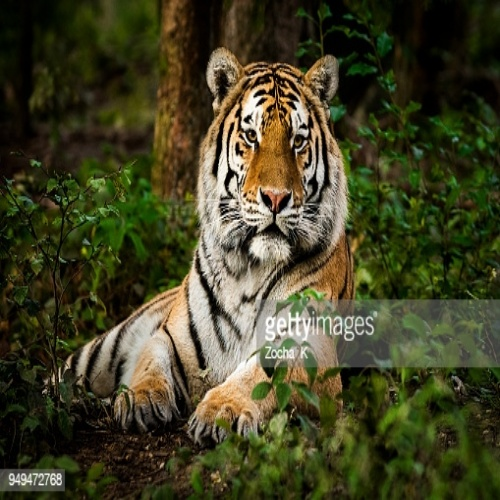tiger: (142, 38, 390, 415)
